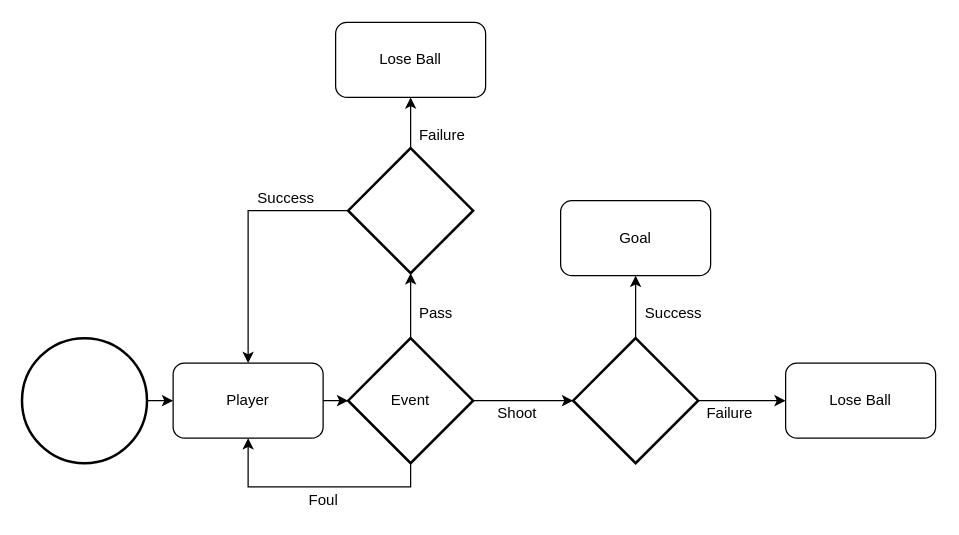
Some shapes in this 959 by 535 pixel diagram are drawn without their labels. Here are the shapes that lost their labels. From the top down, the centre of each, then its label:
At [410,210]: "Pass?".
At [84,400]: "Start".
At [635,400]: "Shoot?".
